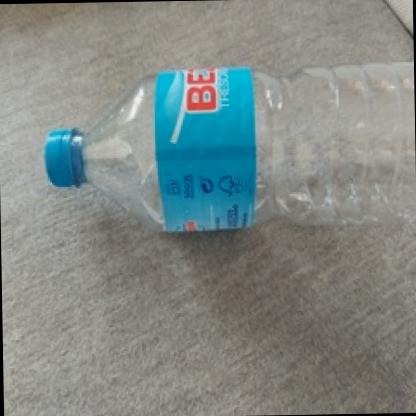plastic_bottles: (40, 52, 416, 258)
